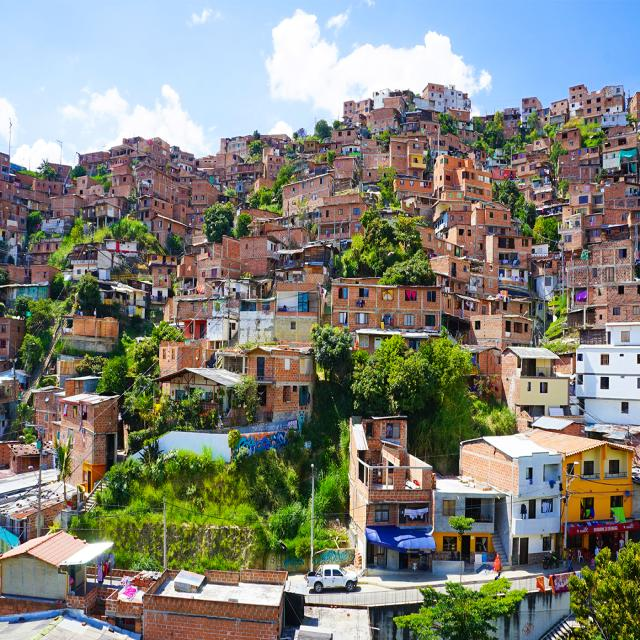Fachada: (460, 433, 564, 565), (527, 431, 639, 552), (349, 416, 436, 570), (575, 323, 640, 430), (564, 237, 640, 327), (432, 477, 502, 572), (332, 278, 447, 332), (53, 394, 117, 491), (0, 531, 87, 599), (246, 345, 315, 420), (501, 347, 570, 414), (165, 296, 238, 346), (470, 235, 532, 288), (434, 155, 491, 212), (275, 283, 321, 341), (197, 236, 241, 294), (133, 161, 180, 215), (310, 193, 366, 238), (469, 312, 532, 351), (569, 84, 626, 123), (159, 339, 215, 375), (283, 173, 333, 212), (238, 236, 284, 276), (560, 191, 591, 250), (250, 217, 310, 247), (33, 385, 64, 438), (532, 244, 559, 301), (604, 182, 640, 224), (239, 302, 275, 344), (418, 225, 465, 257), (558, 147, 600, 182), (432, 255, 470, 292), (149, 255, 177, 301), (446, 225, 485, 258), (152, 214, 189, 248), (0, 317, 26, 362), (469, 259, 499, 296), (472, 202, 511, 230), (192, 179, 221, 212), (228, 163, 261, 192), (603, 134, 630, 169), (334, 156, 362, 189), (516, 156, 544, 186), (368, 108, 400, 133), (394, 175, 432, 196), (109, 166, 133, 198), (389, 138, 410, 173), (262, 148, 284, 181), (343, 98, 373, 122), (491, 296, 528, 315), (30, 241, 59, 263), (171, 147, 195, 172), (221, 136, 253, 154), (362, 149, 389, 170), (33, 179, 62, 197), (522, 97, 542, 122), (551, 99, 568, 121), (77, 175, 95, 195)
